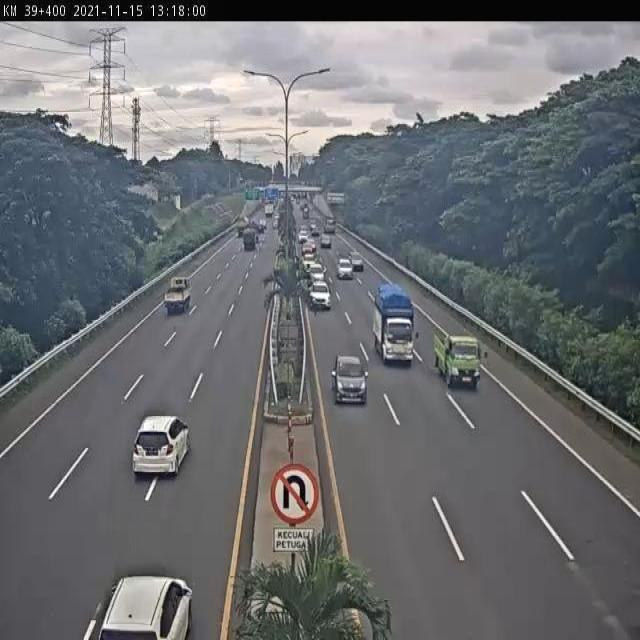Car: (131, 406, 196, 485), (332, 356, 370, 406), (164, 272, 193, 312), (310, 281, 332, 312), (336, 255, 354, 281), (308, 264, 328, 286), (349, 248, 365, 273), (321, 233, 332, 250), (302, 243, 314, 255), (298, 231, 308, 243)
Truck: (374, 281, 418, 368), (433, 328, 488, 393), (243, 228, 258, 250)
